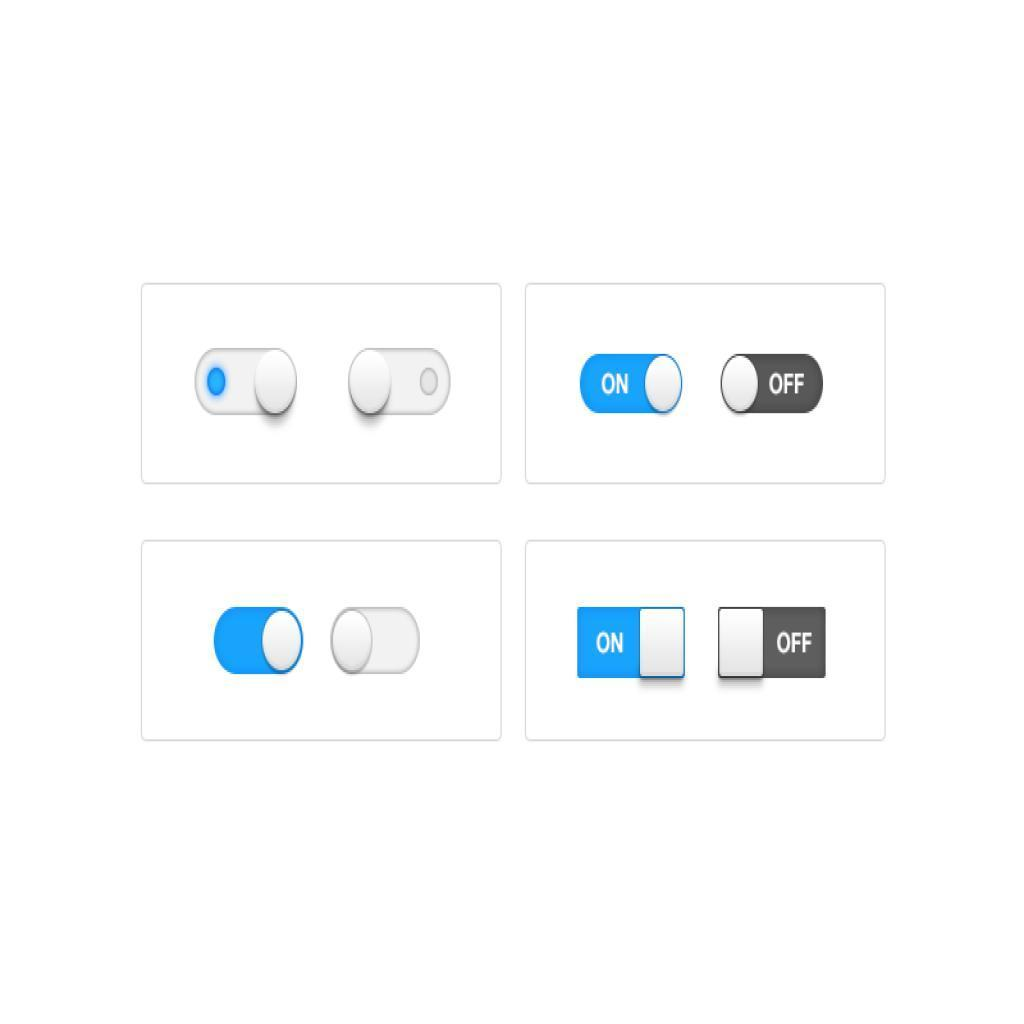switch: (349, 349, 454, 419), (720, 610, 825, 678), (580, 610, 684, 678), (200, 347, 296, 417), (720, 355, 822, 416), (334, 610, 422, 677), (215, 610, 304, 675), (582, 356, 684, 412)
